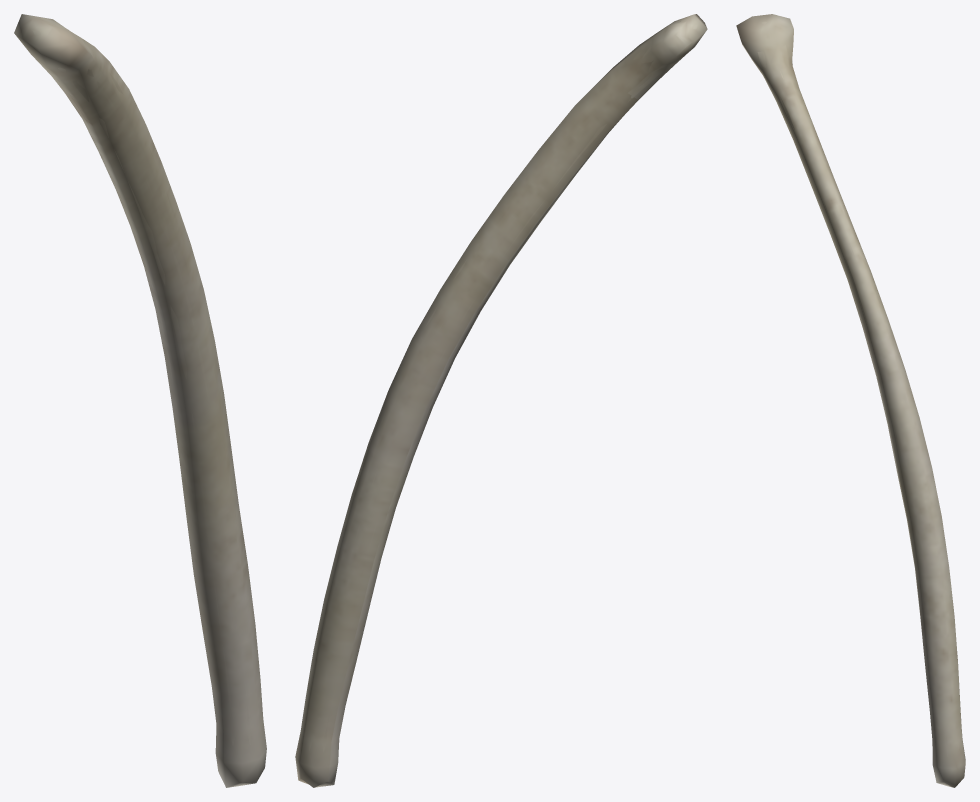
The model's file is Rib L07.fbx.
The picture shows the model from 3 angles, left to right: view 1: azimuth 30°, elevation 25°; view 2: azimuth 150°, elevation 25°; view 3: azimuth 270°, elevation 25°; orthographic projection. The views are drawn at different scales.
Parts seen in each view (by area): view 1: Rib L07 low, Rib L07; view 2: Rib L07 low, Rib L07; view 3: Rib L07 low, Rib L07.
Part boxes in pixels (box(x1,y1,x2,y2)): Rib L07 low: box(14, 14, 266, 787); Rib L07: box(32, 22, 261, 784); Rib L07 low: box(295, 14, 707, 787); Rib L07: box(300, 21, 697, 785); Rib L07 low: box(736, 14, 965, 787); Rib L07: box(757, 21, 963, 784).
Size of the model in its own units: 2.62 by 6.41 by 2.02.
Materials: 1 (1 with a texture image).
